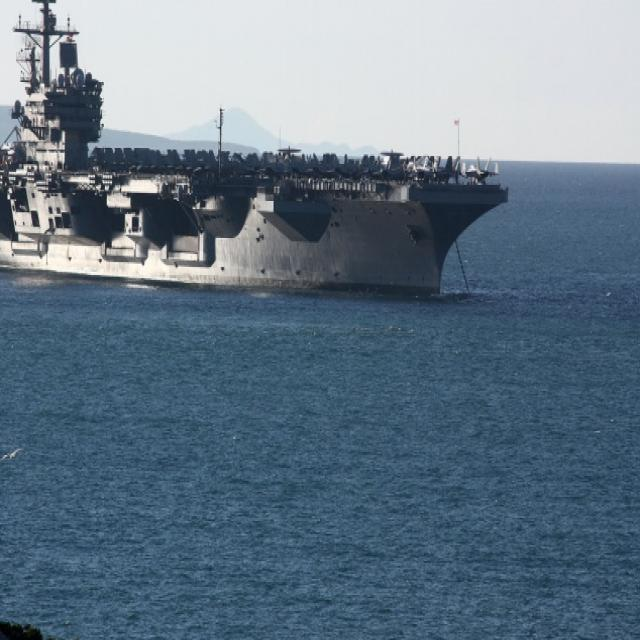Portanaves: (1, 1, 517, 297)
